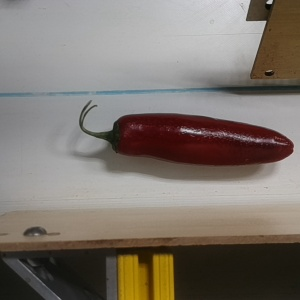Cut Point: (103, 113, 136, 156)
